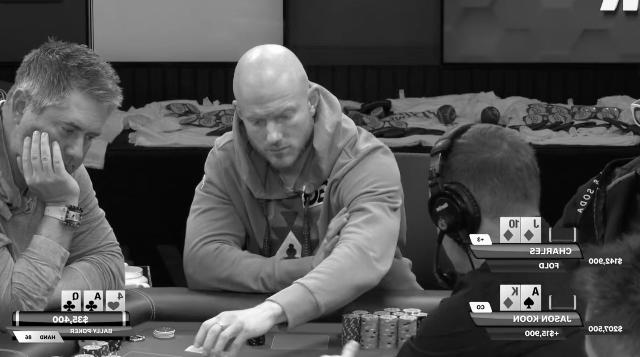10D: (500, 218, 520, 242)
4H: (106, 292, 124, 310)
AC: (84, 292, 102, 312)
AS: (521, 286, 541, 310)
JD: (521, 217, 541, 243)
KD: (501, 286, 521, 310)
QC: (62, 291, 80, 311)
